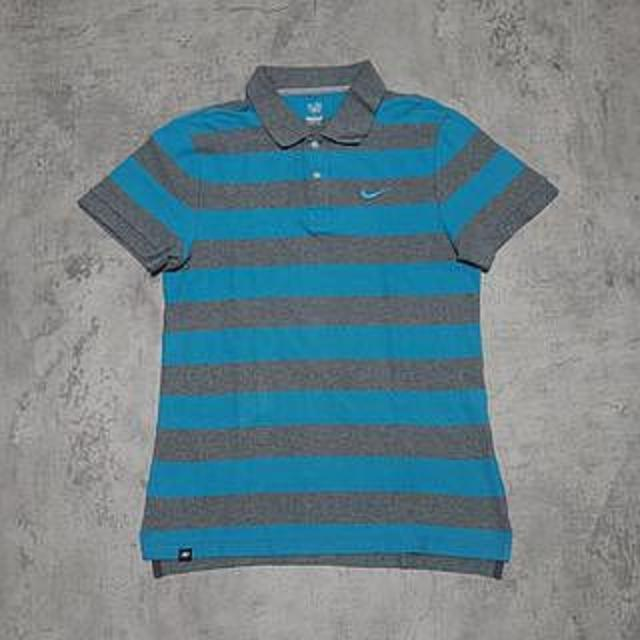T_SHIRT: (57, 44, 589, 582)
